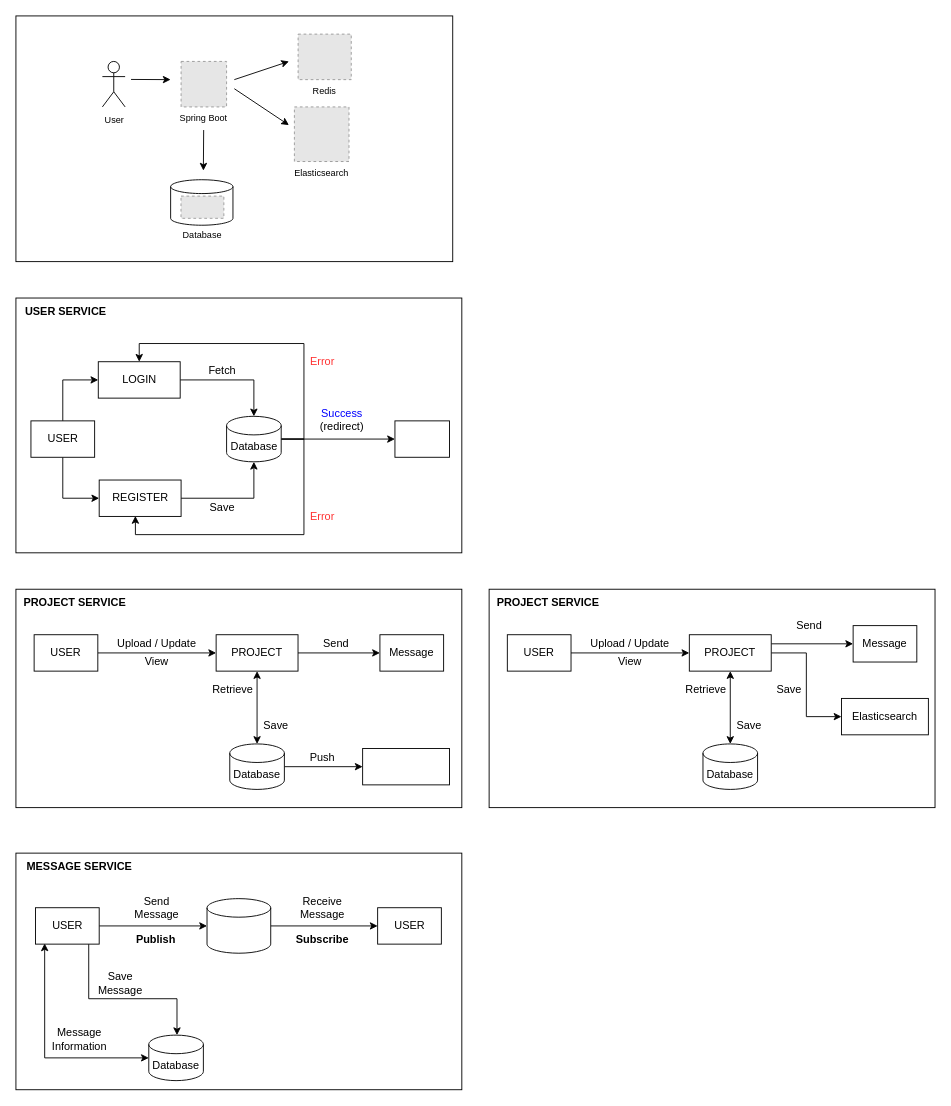
The diagram is 951 pixels wide and 1106 high, and some of its shapes have lost their labels. Grey dashed boxes stand in for pictures. Each missing label, with the centre of its shape:
ELK ( Searching ): point (406, 766)
Home Page: point (422, 438)
Redis Pub/Sub: point (238, 925)
